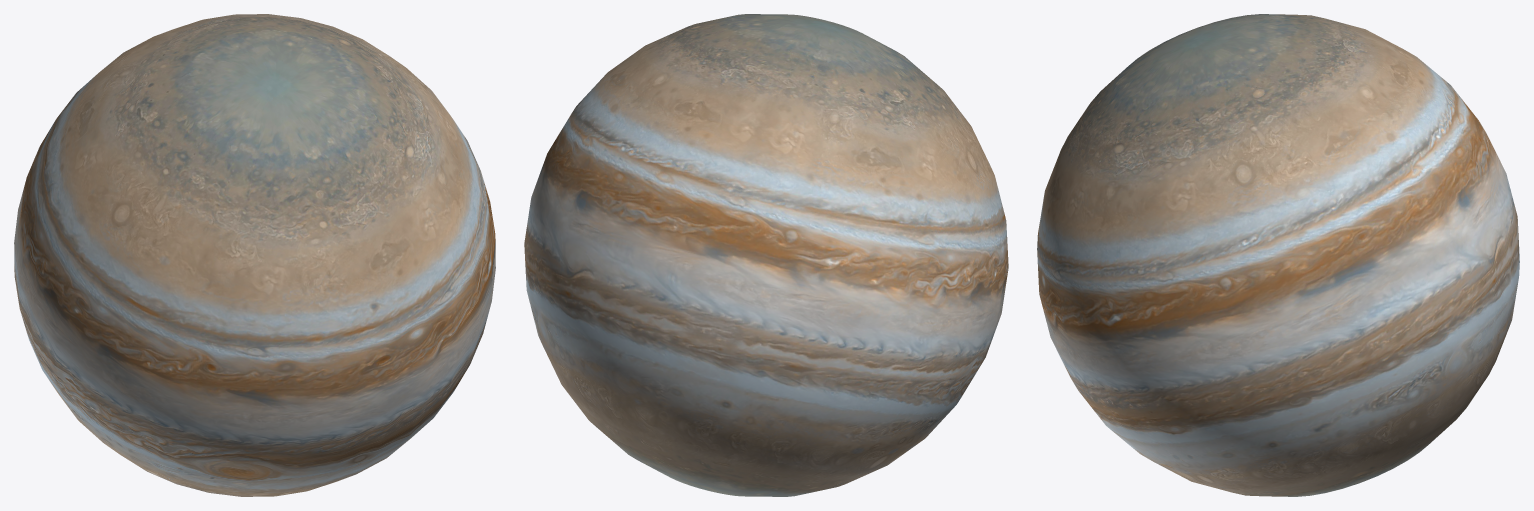
Rendered from jupiter.obj.
3 views of the same model, side by side, from view 1: azimuth 30°, elevation 25°; view 2: azimuth 150°, elevation 25°; view 3: azimuth 270°, elevation 25° (orthographic).
Visible parts, largest first — view 1: Jupiter.004; view 2: Jupiter.004; view 3: Jupiter.004.
Part boxes in pixels (x1,y1,x2,y2): Jupiter.004: (14,14,495,496); Jupiter.004: (524,14,1008,496); Jupiter.004: (1037,14,1519,496).
Bounding box in the file's own units: 1.8 × 1.82 × 1.81.
